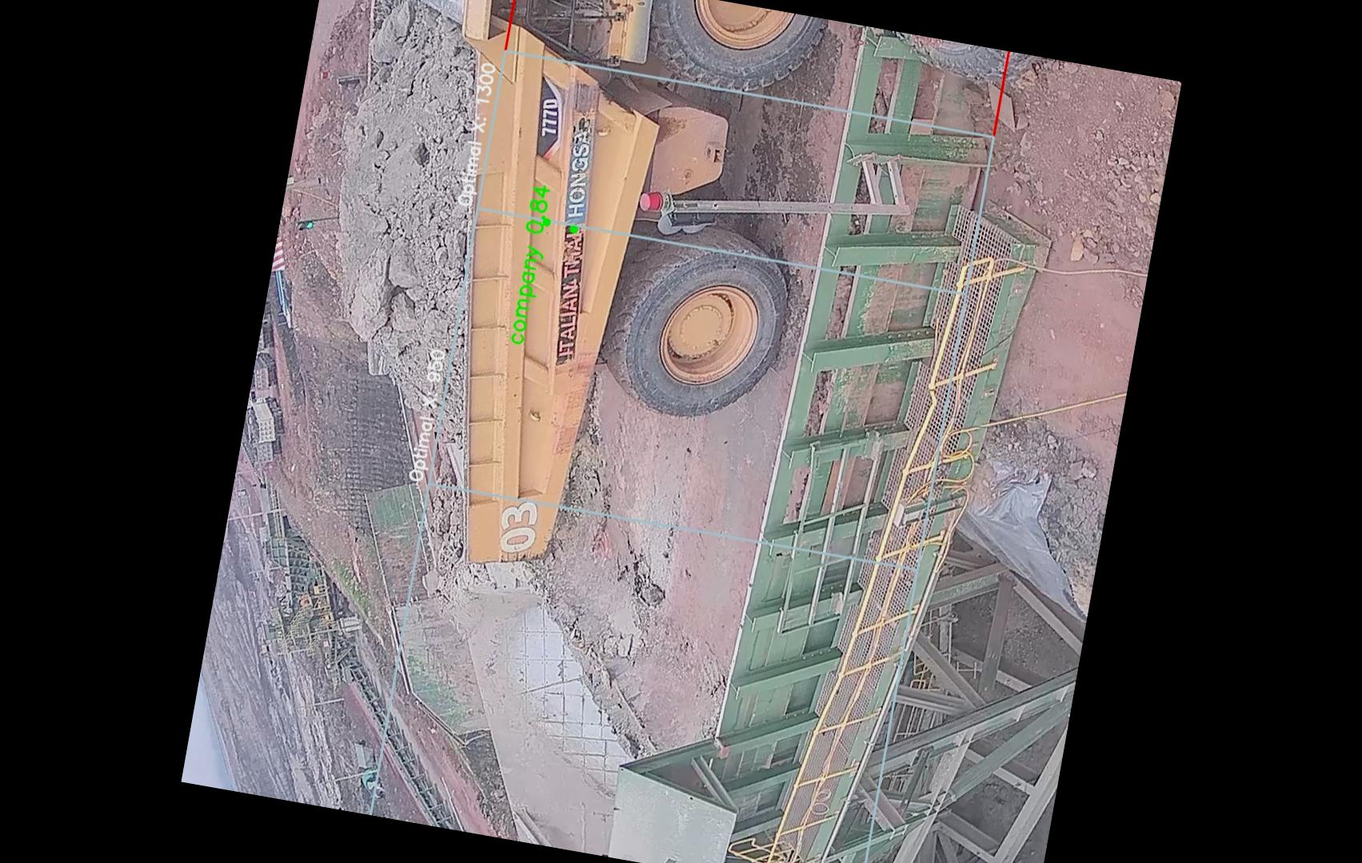company: (529, 121, 618, 378)
full_load: (310, 20, 522, 380)
mining_truck: (253, 0, 833, 618)
tail_number: (481, 482, 551, 565)
truck_size: (527, 66, 573, 165)
